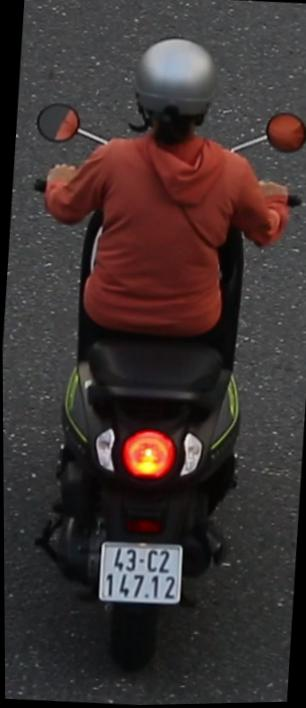LP: (94, 535, 188, 615)
helmet: (125, 29, 227, 155)
